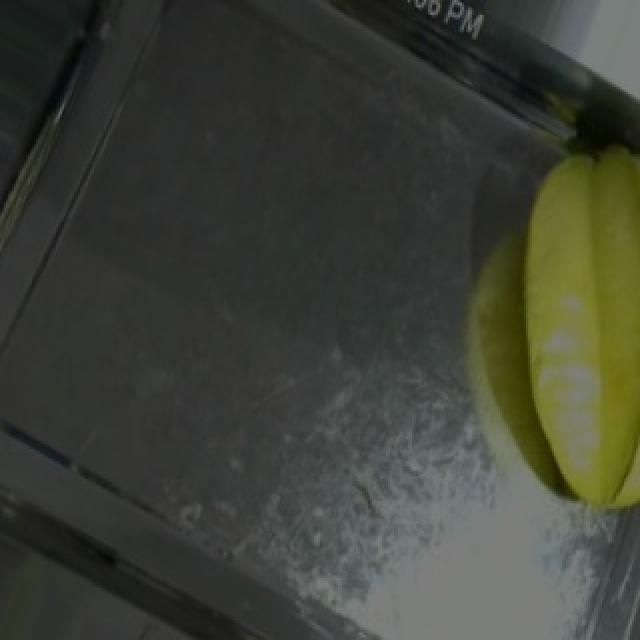fruit: (468, 109, 640, 516)
